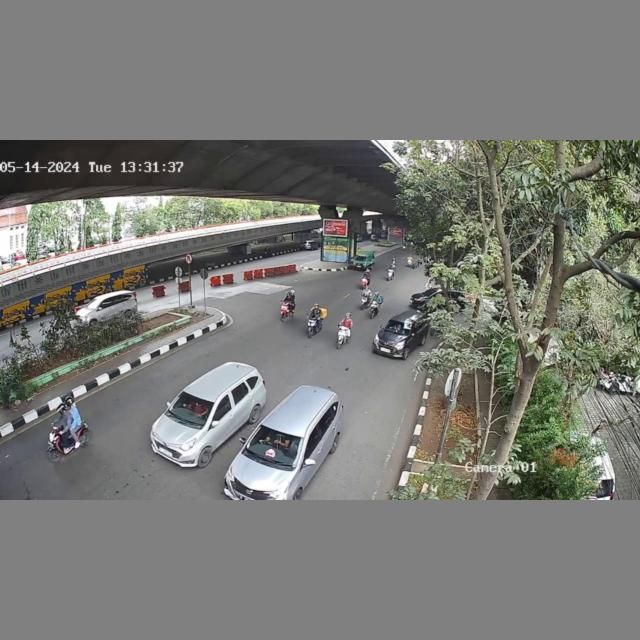windshield: (249, 425, 303, 466), (173, 396, 212, 427), (385, 320, 414, 335)
